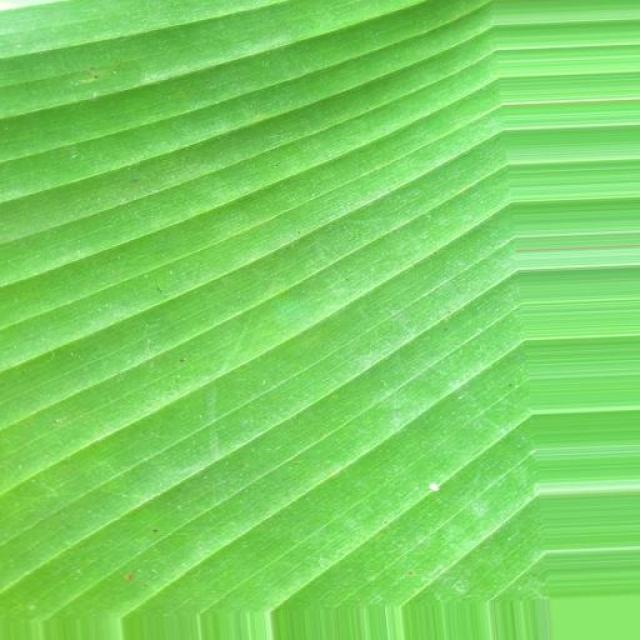Black_leaf_spot: (0, 0, 629, 590)
